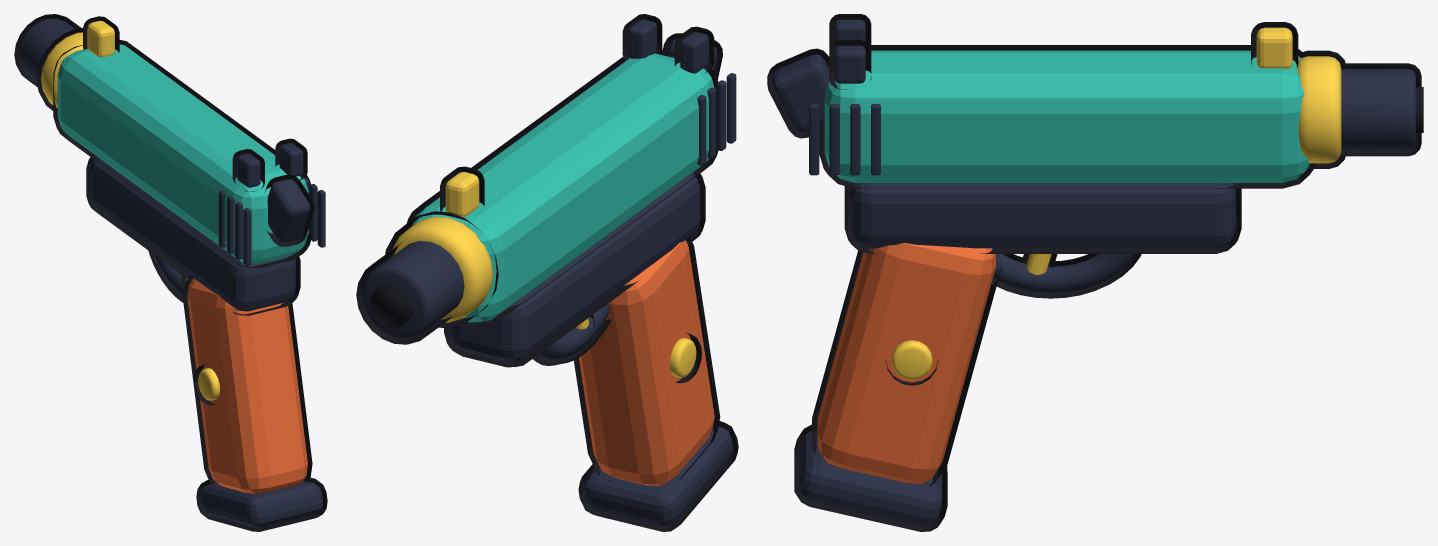
Rendered from pistol.glb.
The picture shows the model from 3 angles, left to right: view 1: azimuth 30°, elevation 25°; view 2: azimuth 150°, elevation 25°; view 3: azimuth 270°, elevation 25°; orthographic projection. The views are drawn at different scales.
Visible parts, largest first — view 1: Slide, Grip, Frame, GripCap, Hammer, Barrel, MuzzleRing, FrontSight, RearSightL, RearSightR, RivetL, TriggerGuard (+6 smaller); view 2: Slide, Grip, Frame, GripCap, Barrel, MuzzleRing, TriggerGuard, FrontSight, RearSightL, RearSightR, Bore, RivetL (+5 smaller); view 3: Slide, Grip, Frame, GripCap, Barrel, MuzzleRing, TriggerGuard, Hammer, FrontSight, RearSightR, RivetR, RearSightL (+3 smaller).
Part boxes in pixels (bbox=[...]): Slide: bbox=[53, 40, 310, 268]; Grip: bbox=[183, 276, 312, 493]; Frame: bbox=[86, 154, 300, 315]; GripCap: bbox=[196, 477, 327, 531]; Hammer: bbox=[264, 174, 314, 246]; Barrel: bbox=[14, 14, 80, 87]; MuzzleRing: bbox=[36, 28, 83, 110]; FrontSight: bbox=[83, 16, 119, 57]; RearSightL: bbox=[232, 149, 264, 191]; RearSightR: bbox=[275, 138, 307, 179]; RivetL: bbox=[193, 364, 219, 405]; TriggerGuard: bbox=[148, 250, 186, 302]; Slide: bbox=[406, 48, 718, 327]; Grip: bbox=[573, 237, 720, 485]; Frame: bbox=[444, 169, 705, 367]; GripCap: bbox=[578, 421, 738, 531]; Barrel: bbox=[356, 240, 464, 344]; MuzzleRing: bbox=[385, 211, 498, 328]; TriggerGuard: bbox=[533, 304, 611, 365]; FrontSight: bbox=[440, 166, 484, 217]; RearSightL: bbox=[674, 26, 714, 73]; RearSightR: bbox=[622, 14, 662, 60]; Bore: bbox=[370, 283, 412, 327]; RivetL: bbox=[669, 333, 701, 383]; Slide: bbox=[819, 45, 1315, 188]; Grip: bbox=[812, 243, 1001, 486]; Frame: bbox=[844, 182, 1241, 253]; GripCap: bbox=[794, 424, 947, 531]; Barrel: bbox=[1340, 63, 1421, 156]; MuzzleRing: bbox=[1297, 50, 1346, 168]; TriggerGuard: bbox=[991, 254, 1141, 298]; Hammer: bbox=[767, 48, 829, 138]; FrontSight: bbox=[1251, 22, 1298, 68]; RearSightR: bbox=[829, 40, 871, 89]; RivetR: bbox=[885, 340, 938, 385]; RearSightL: bbox=[829, 14, 871, 48].
Size of the model in its own units: 0.0504 by 0.2094 by 0.2553.
